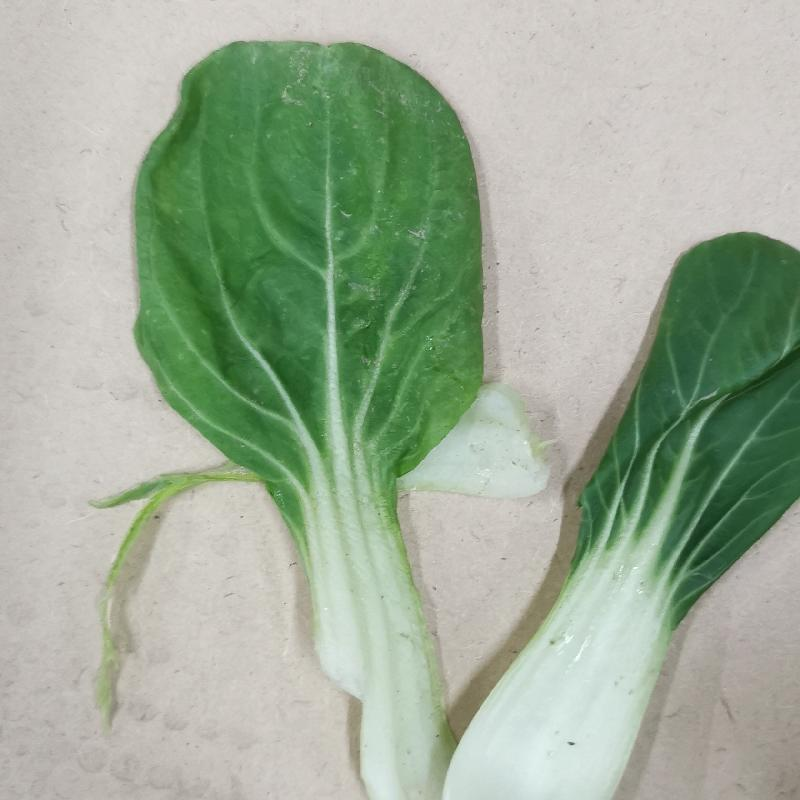green vegatable: (121, 35, 480, 799), (517, 191, 799, 800)
